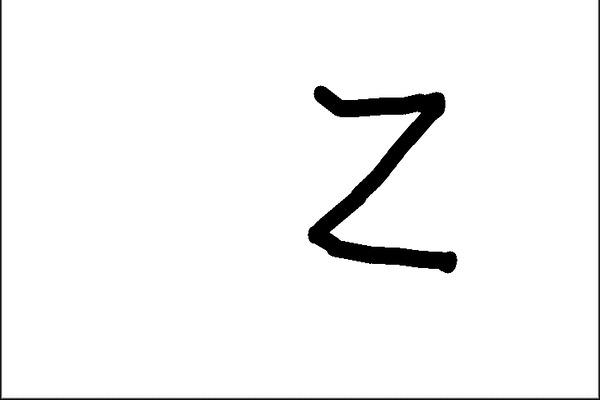Z: (304, 74, 462, 275)
